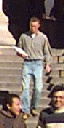person: (11, 17, 47, 106)
